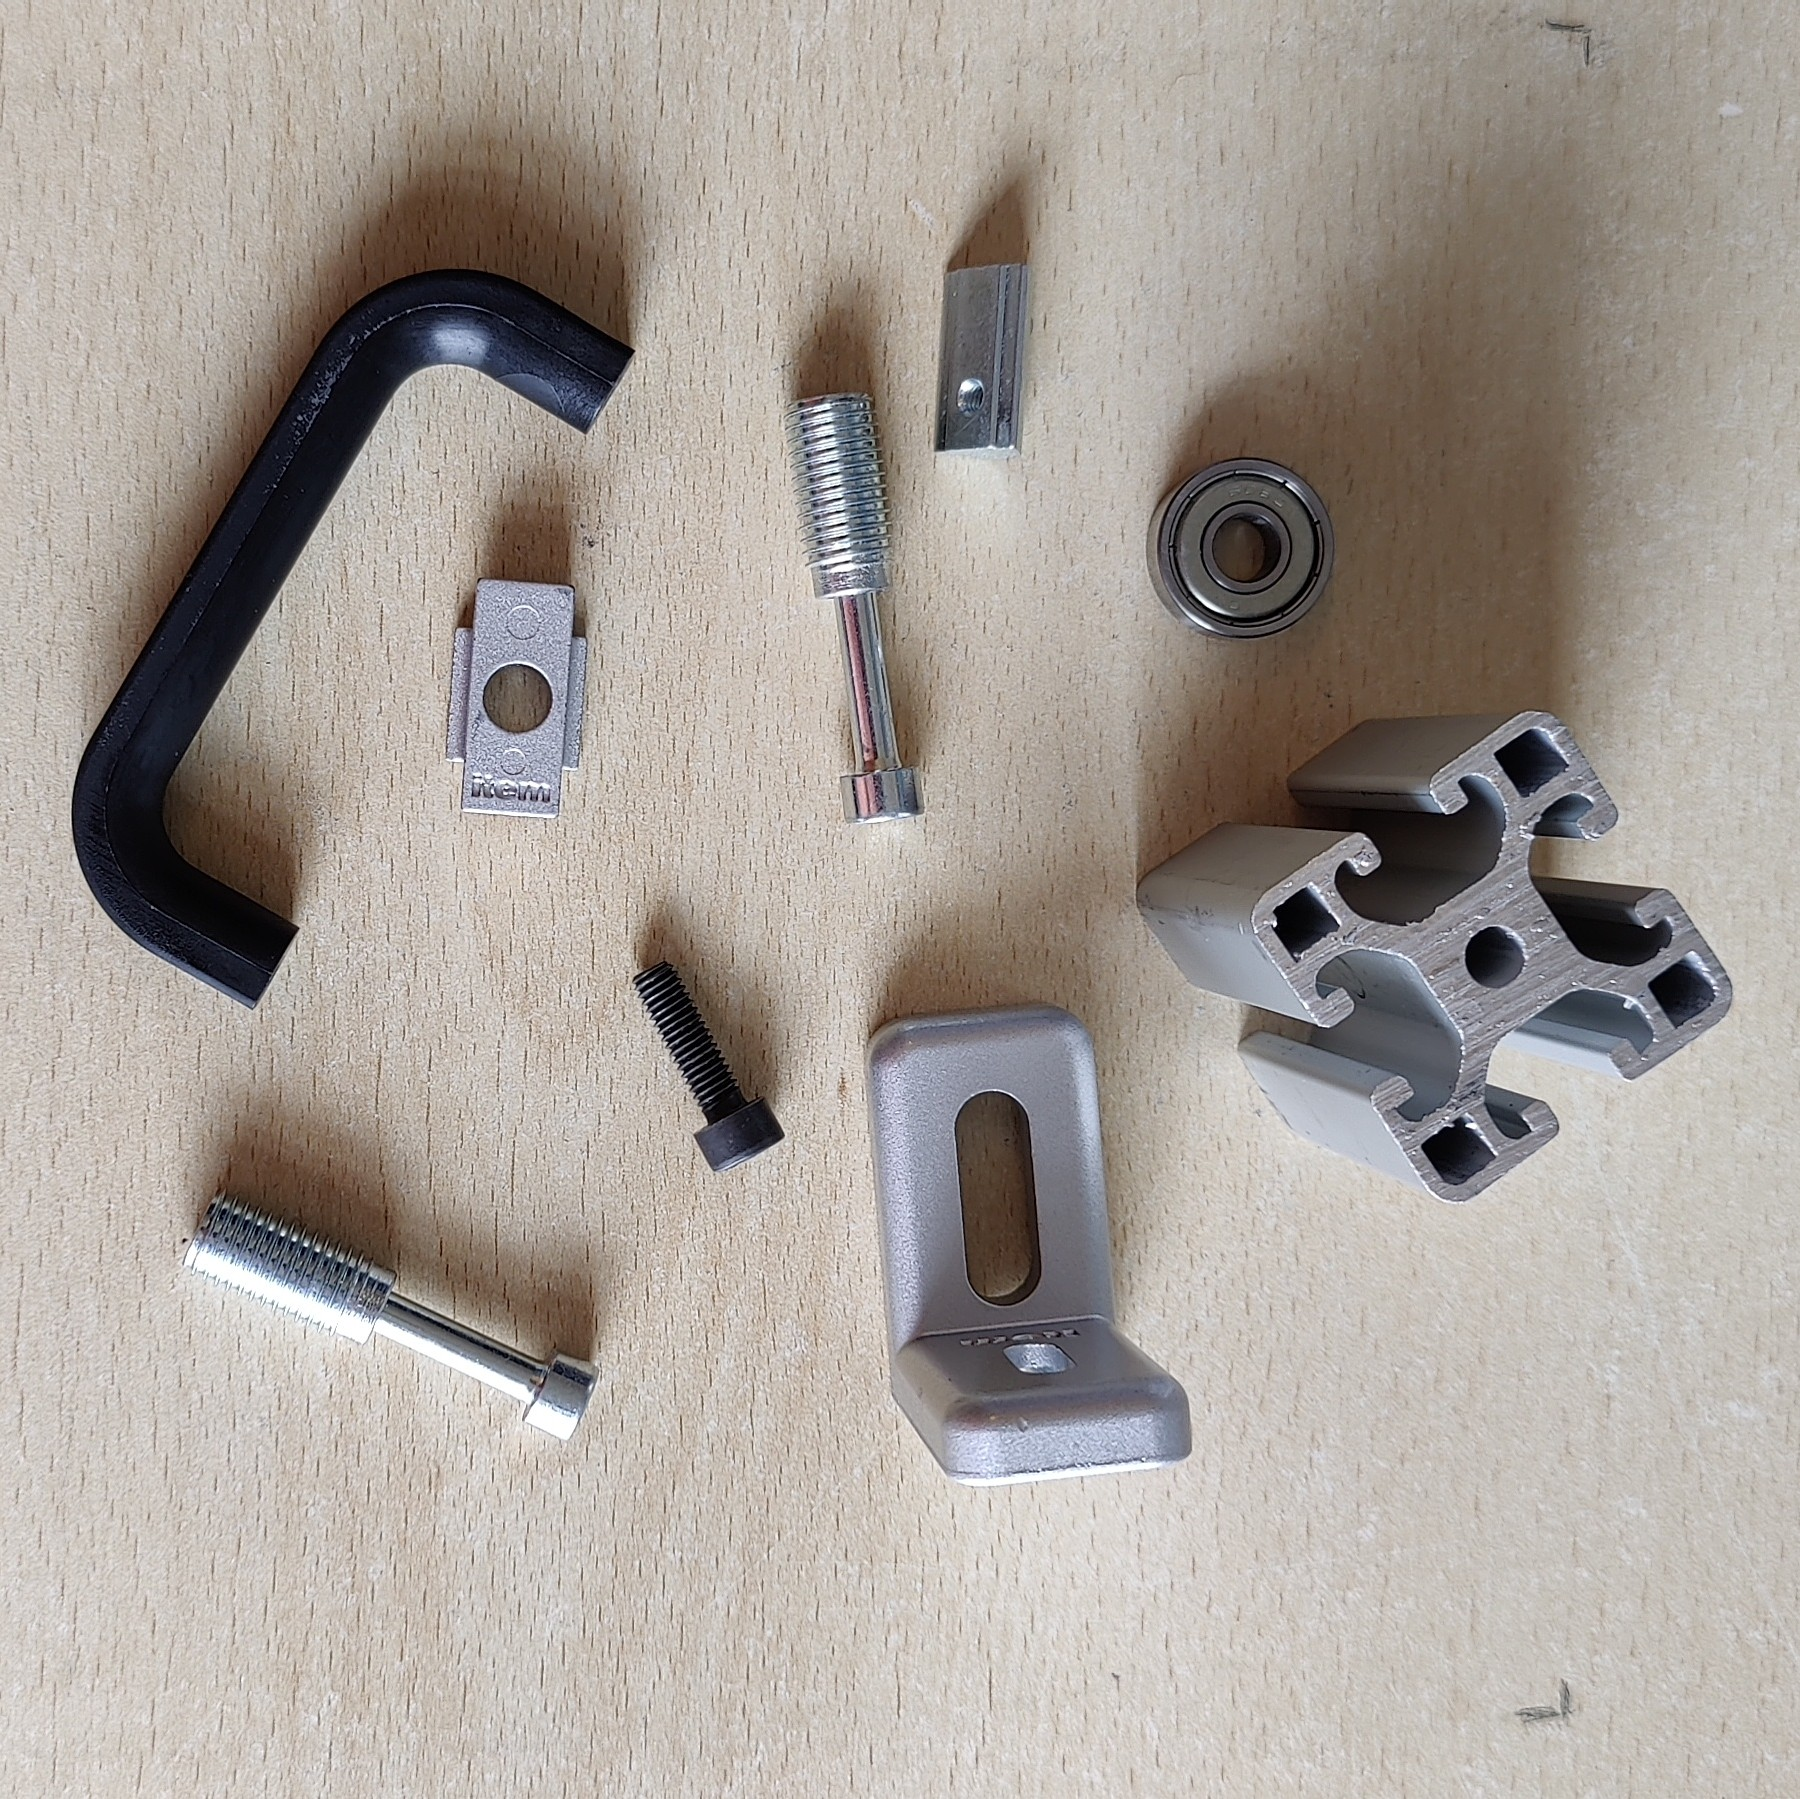Aluminium Extension: (1135, 708, 1736, 1206)
Ball Bearing: (1145, 453, 1336, 641)
Multiwinkel: (861, 1003, 1196, 1489)
Pull Handle: (69, 264, 637, 1013)
Shoulder Socket Head Cap Screw: (178, 1185, 604, 1448), (777, 389, 927, 827)
Socket Head Cap Screw: (627, 957, 787, 1176)
T Nut Square: (441, 572, 593, 824)
T Spring Nut: (930, 260, 1038, 463)
